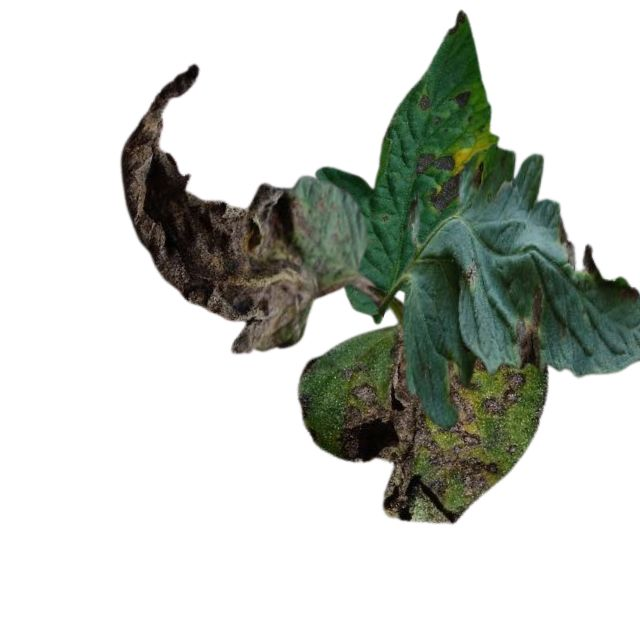Early_blight: (116, 60, 320, 352), (338, 328, 541, 524), (512, 284, 545, 366), (427, 175, 464, 213), (557, 215, 579, 273), (413, 149, 458, 175), (451, 90, 473, 107), (415, 89, 431, 111)
